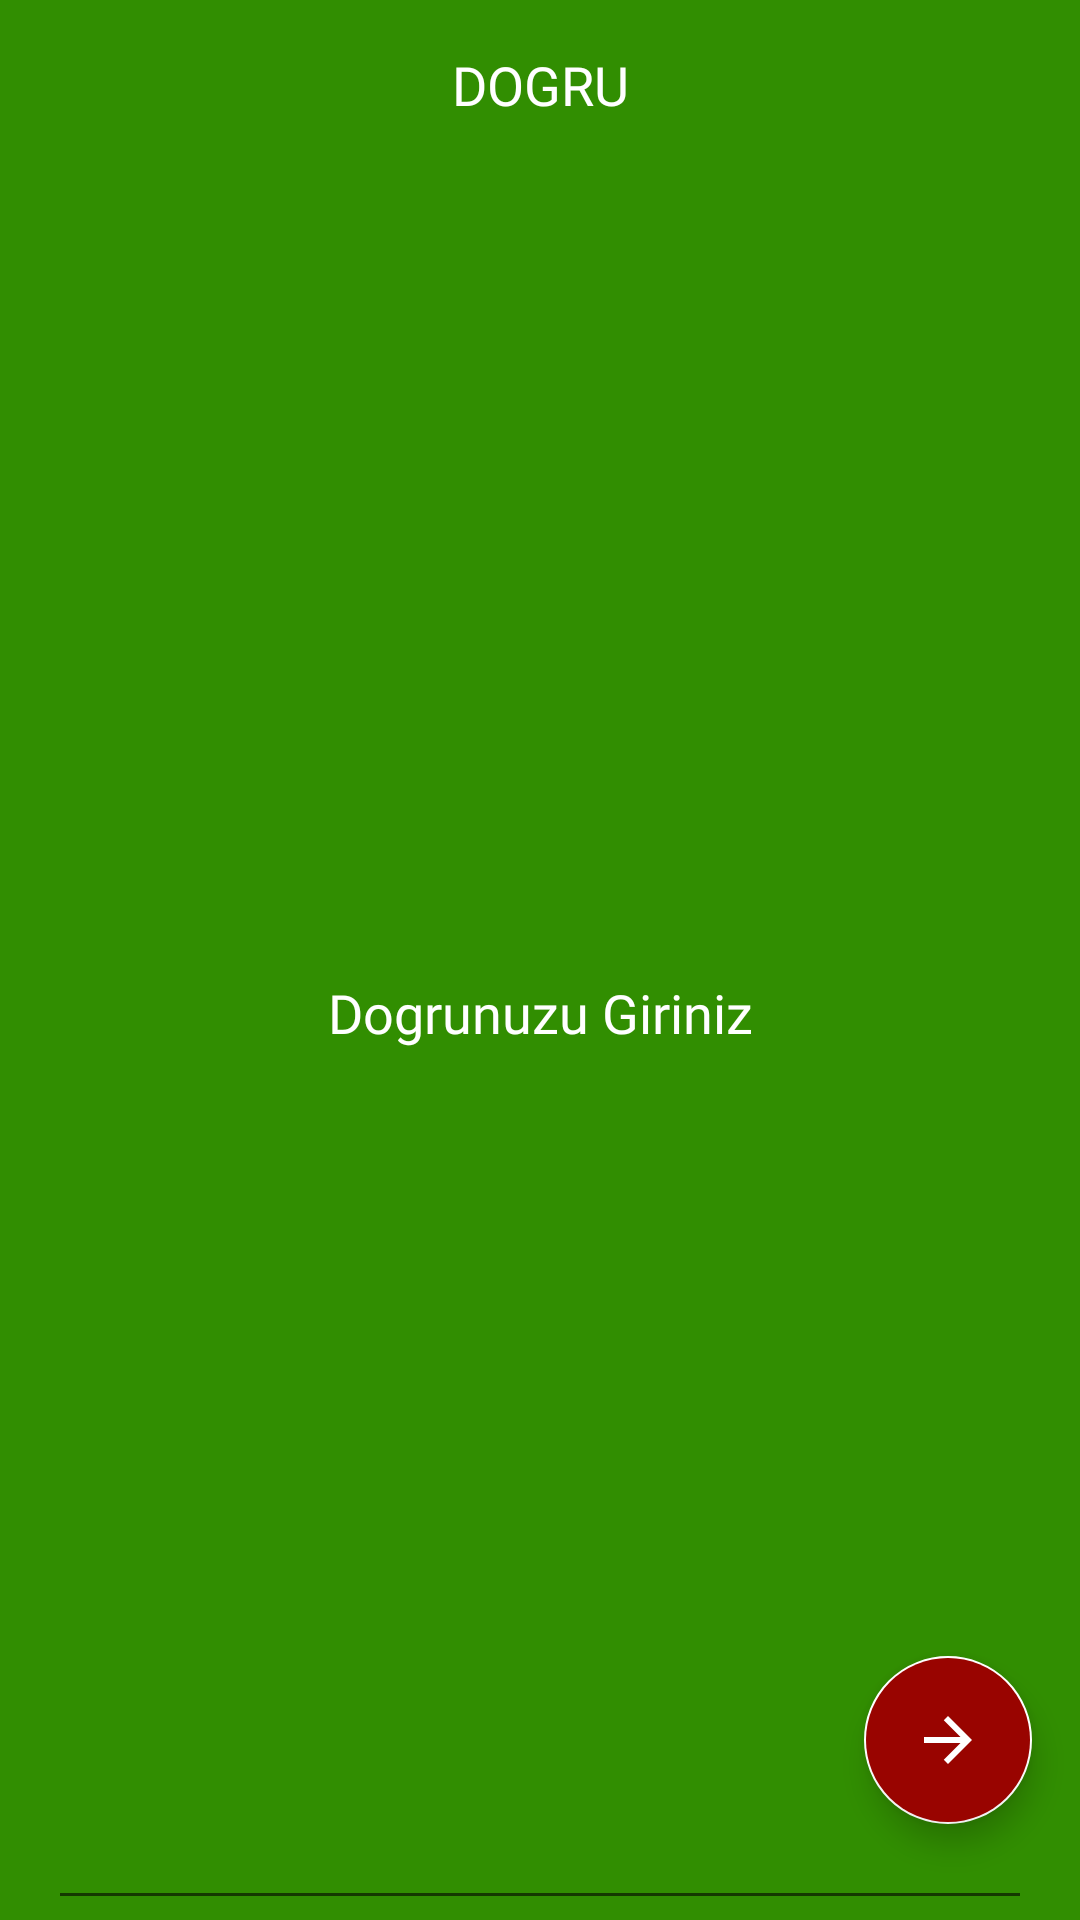

Locate icon controls on the screen. Image size 1080 × 1920, boxes as (x1, y1, x2, y2).
arrow forward: (864, 1656, 1032, 1824)
